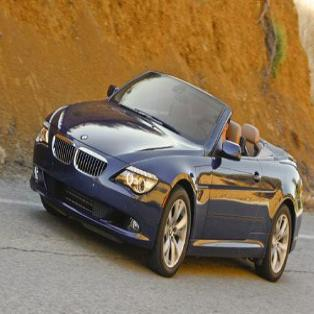Auto: (29, 70, 306, 284)
